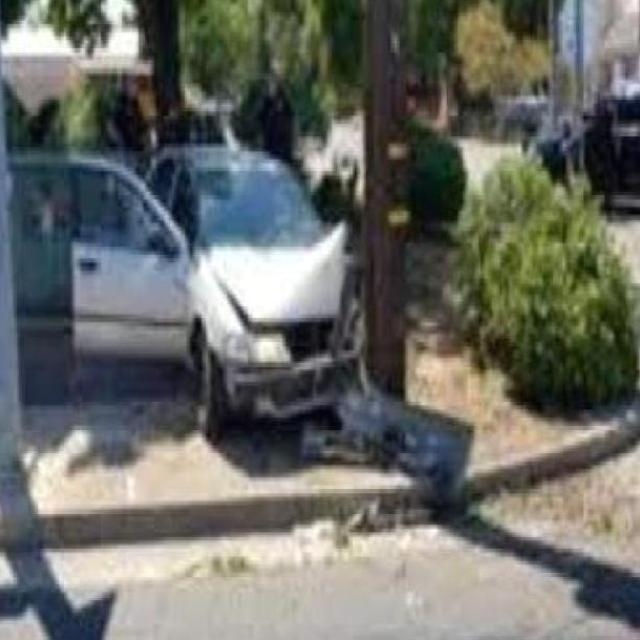accident: (79, 117, 390, 454)
